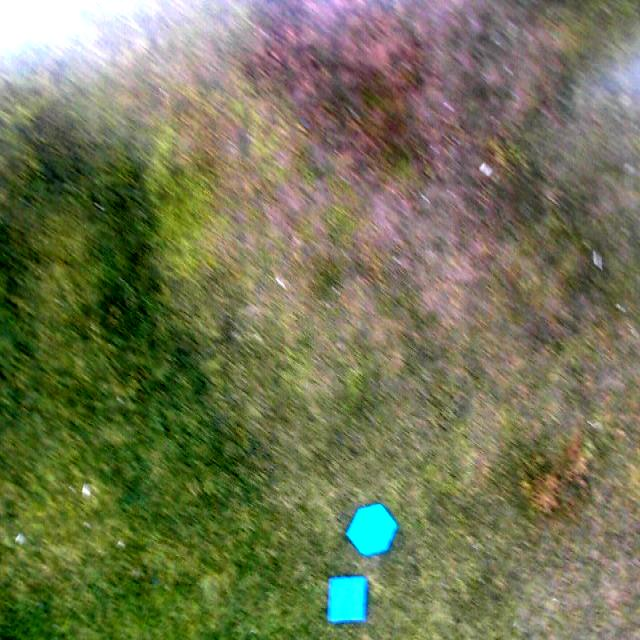blue_hexagon: (348, 503, 396, 558)
blue_square: (328, 578, 368, 620)
